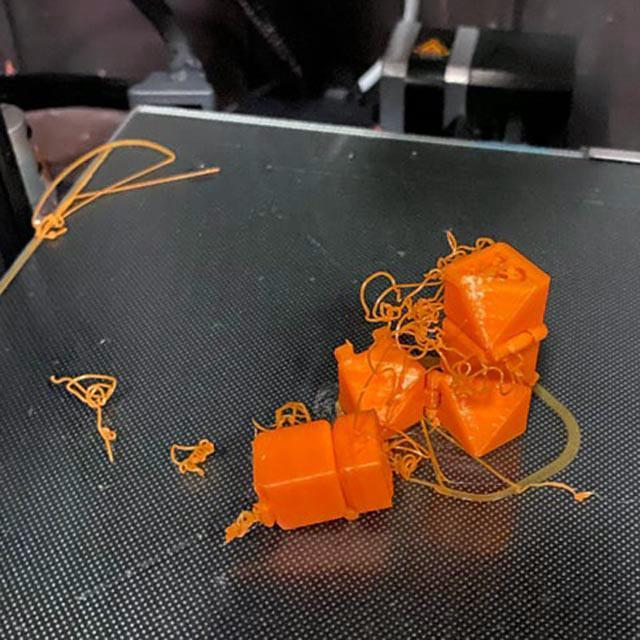Spaghetti: (359, 230, 547, 396), (31, 140, 219, 240), (48, 369, 124, 464), (386, 422, 432, 478)
